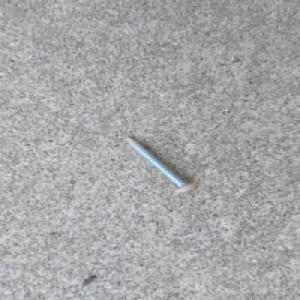Screw: (123, 135, 200, 193)
